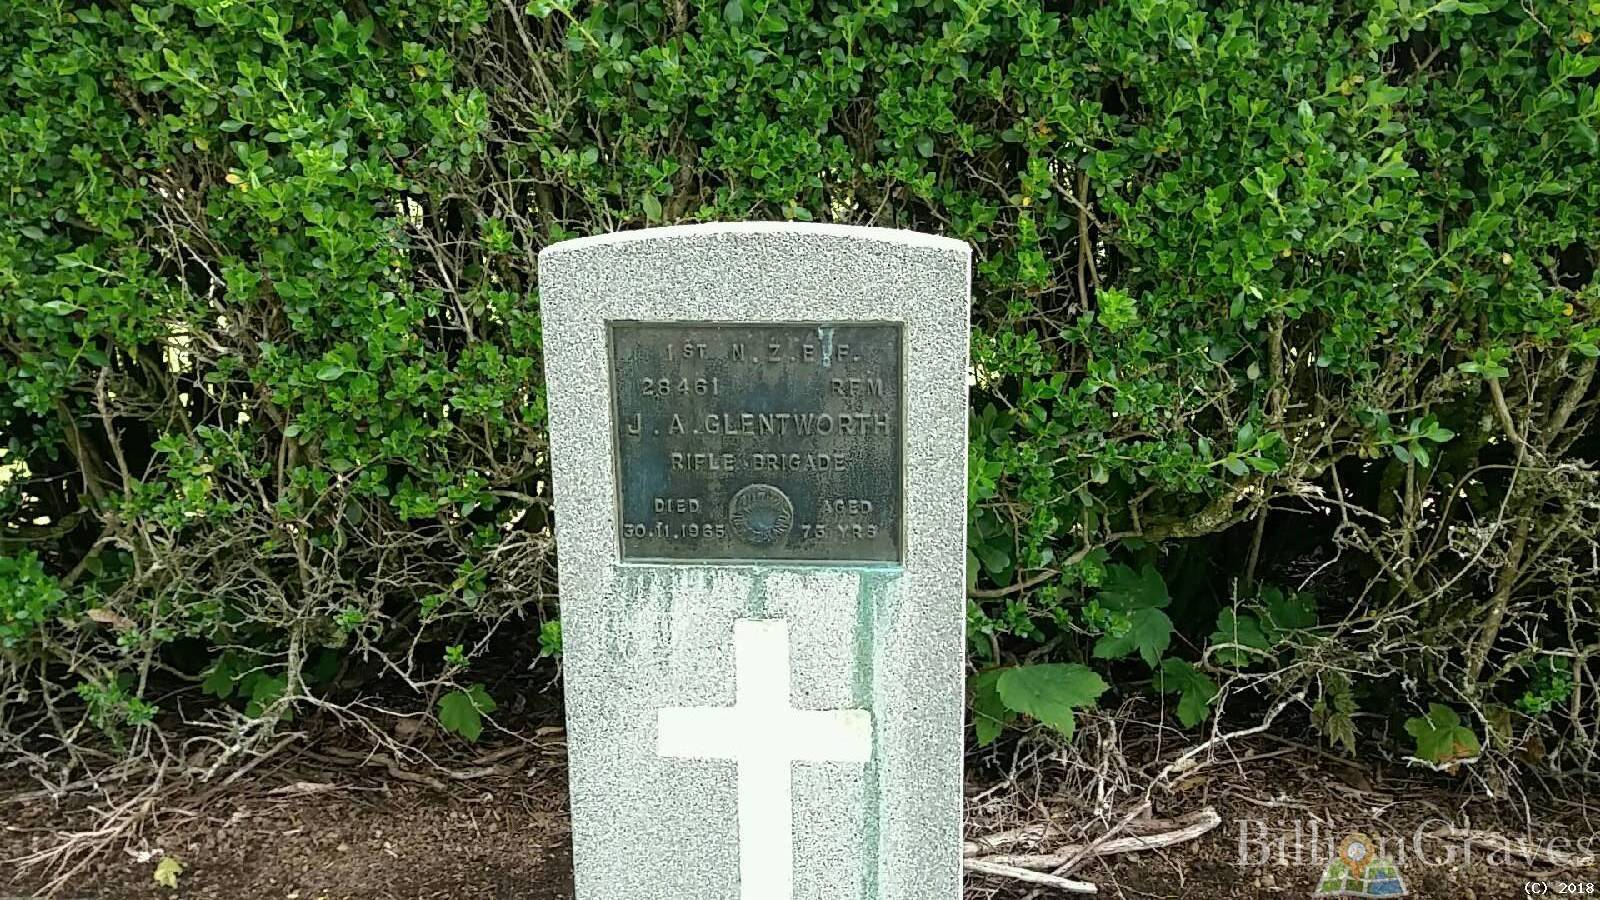upright: (533, 216, 976, 896)
